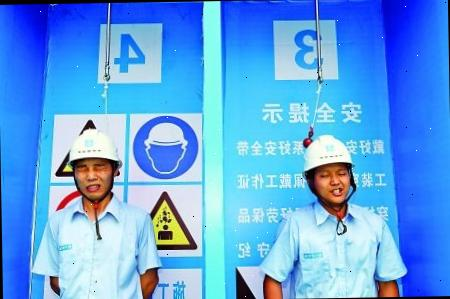helmet: (301, 134, 356, 171), (64, 130, 120, 166)
no_wear: (259, 202, 406, 298), (35, 201, 157, 299)
